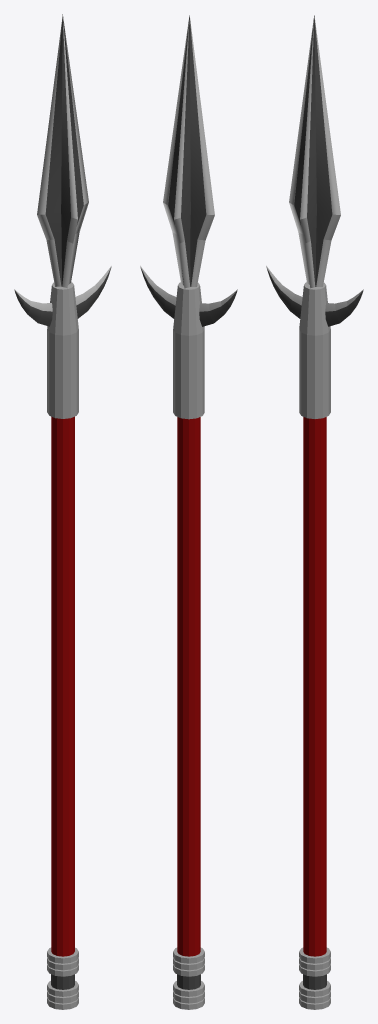
Rendered from Spear_08.fbx.
The picture shows the model from 3 angles, left to right: view 1: azimuth 30°, elevation 25°; view 2: azimuth 150°, elevation 25°; view 3: azimuth 330°, elevation 25°; orthographic projection.
Visible parts, largest first — view 1: Spear_08; view 2: Spear_08; view 3: Spear_08.
Part boxes in pixels (box(x1,y1,x2,y2)): Spear_08: box(14, 14, 111, 1009); Spear_08: box(140, 15, 237, 1009); Spear_08: box(266, 15, 363, 1009).
Size of the model in its own units: 1.9 by 18.48 by 1.02.
